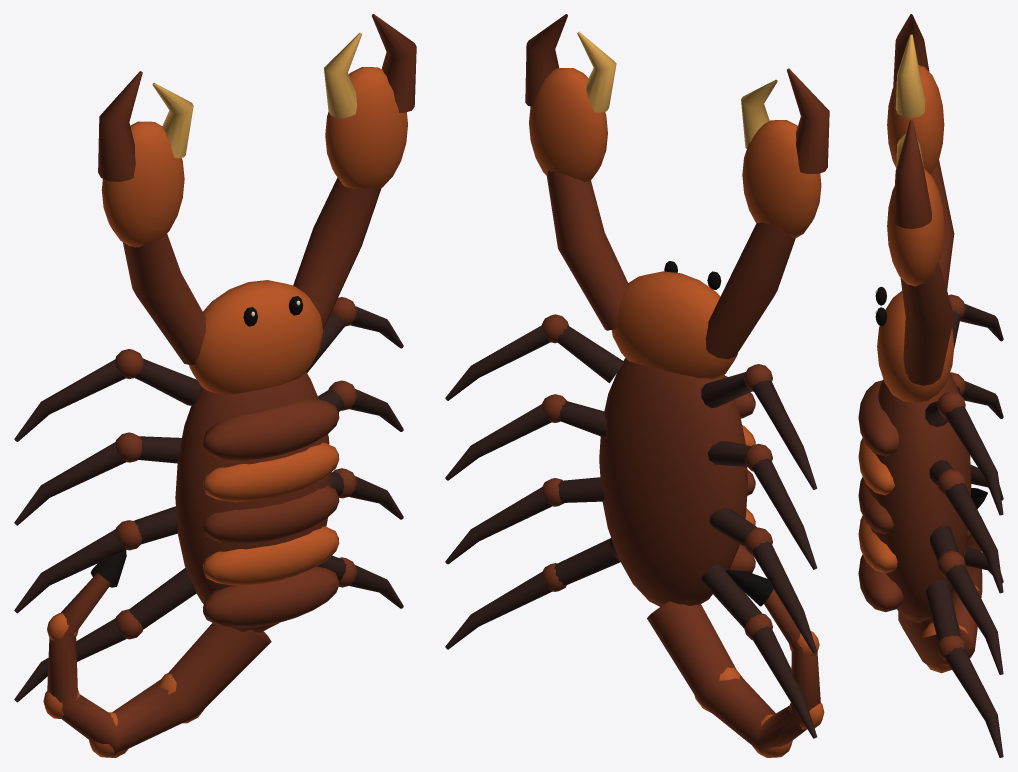
Rendered from scorpion.obj.
The picture shows the model from 3 angles, left to right: view 1: azimuth 30°, elevation 25°; view 2: azimuth 150°, elevation 25°; view 3: azimuth 270°, elevation 25°; orthographic projection. The views are drawn at different scales.
Size of the model in its own units: 0.2923 by 0.5046 by 0.1014.
1 material, 1 textured.
